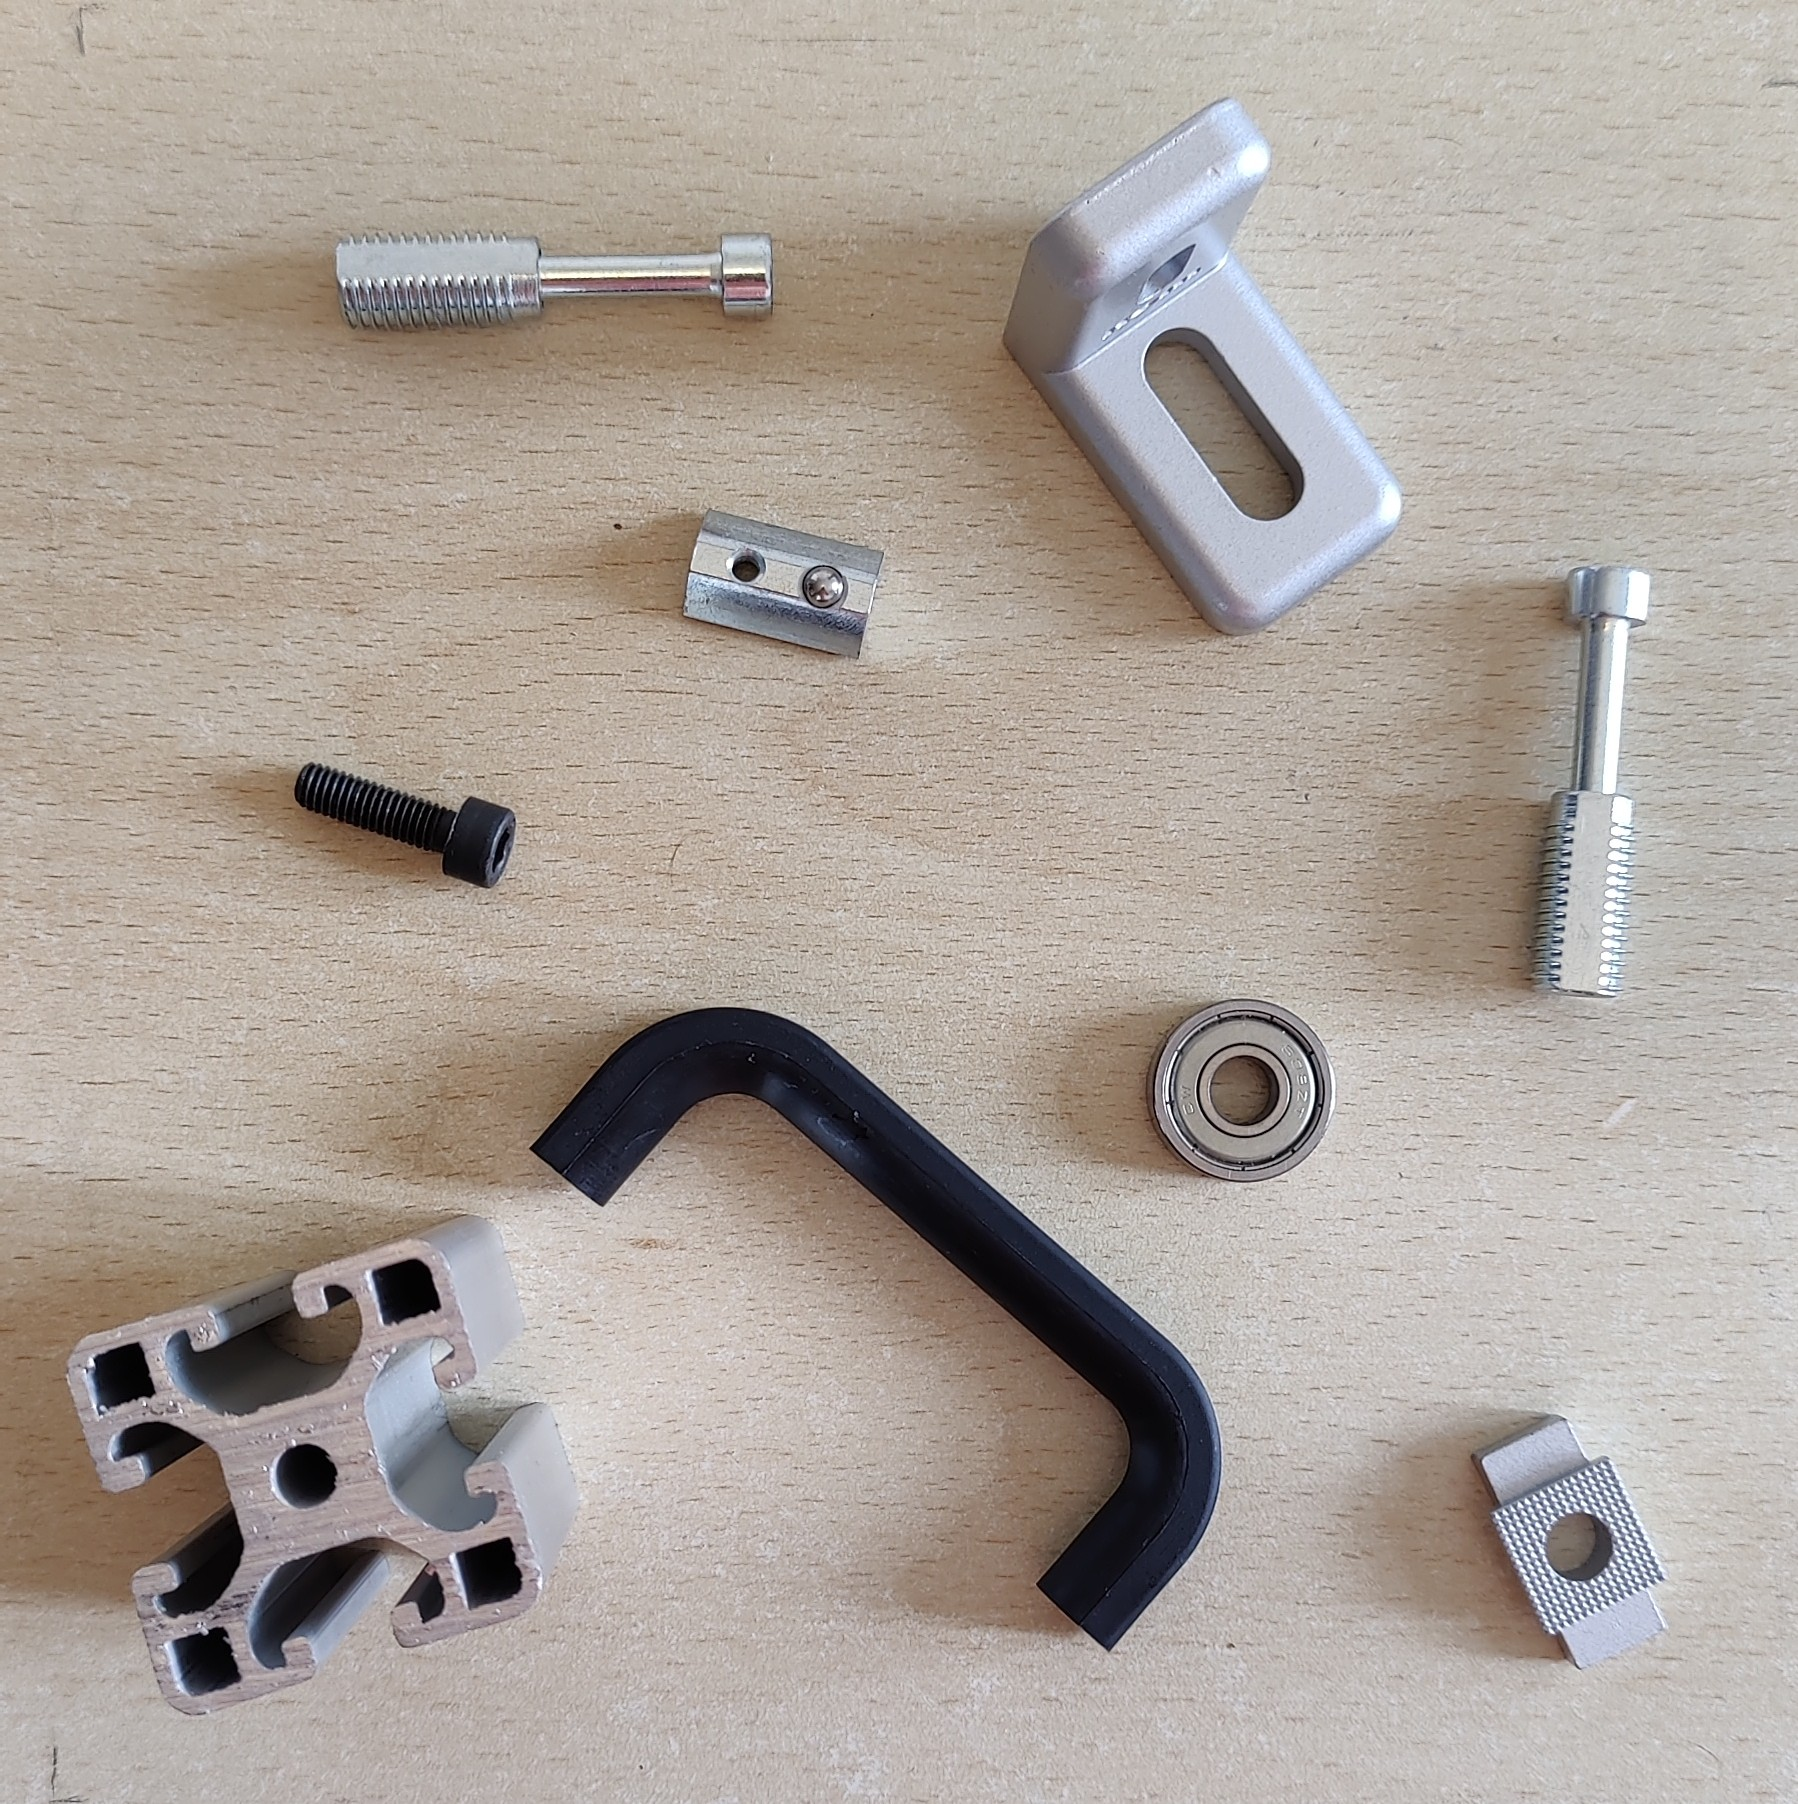Aluminium Extension: (63, 1211, 581, 1718)
Ball Bearing: (1144, 996, 1335, 1185)
Multiwinkel: (1003, 94, 1404, 640)
Pull Handle: (529, 1004, 1223, 1653)
Shoulder Socket Head Cap Screw: (1521, 565, 1655, 1002), (333, 230, 777, 337)
Socket Head Cap Screw: (291, 760, 519, 890)
T Nut Square: (1465, 1411, 1671, 1671)
T Spring Nut: (680, 509, 889, 662)
